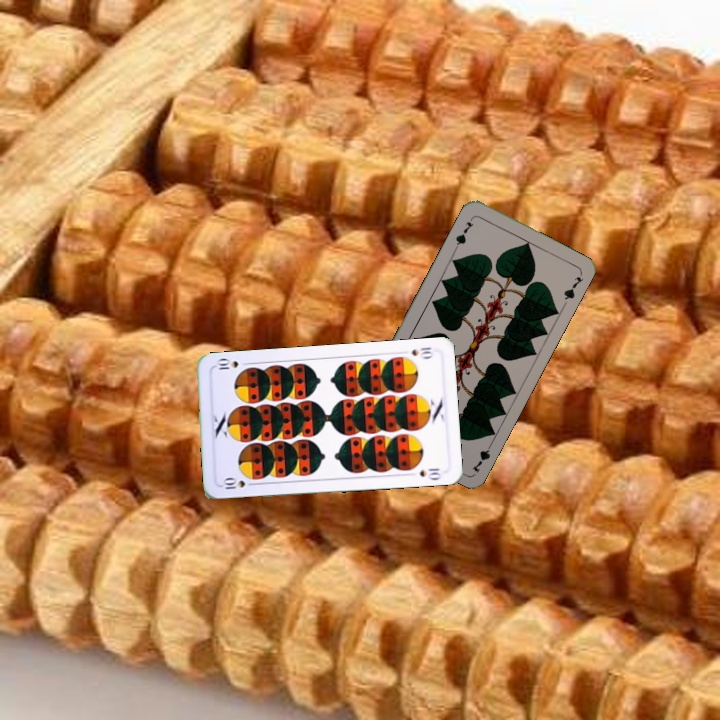G7: (468, 437, 496, 475), (451, 218, 476, 250)
S10: (218, 475, 258, 492), (407, 343, 435, 361)
